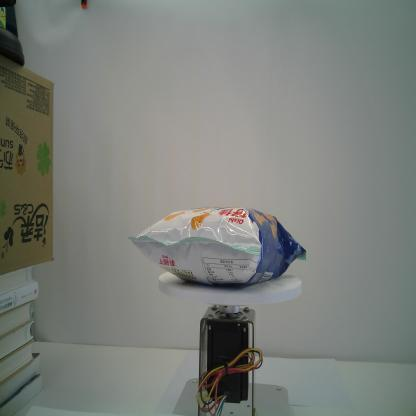Puffed Food: (127, 205, 307, 287)
